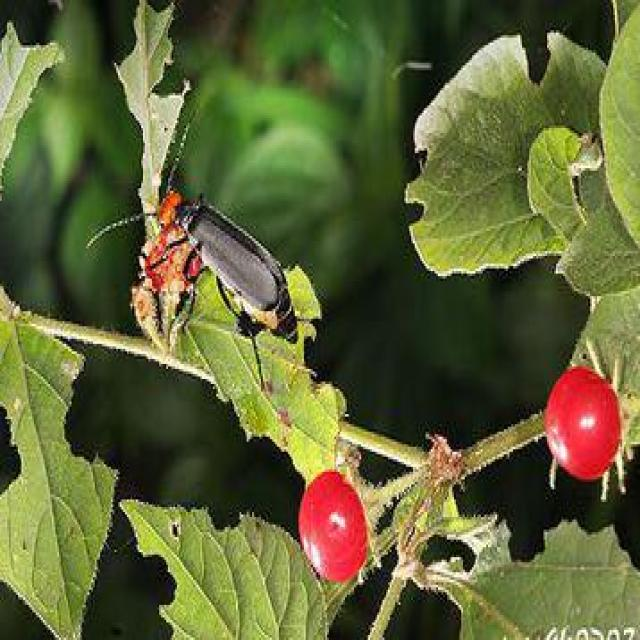BlisterBeetle-Adult-: (106, 124, 312, 365)
